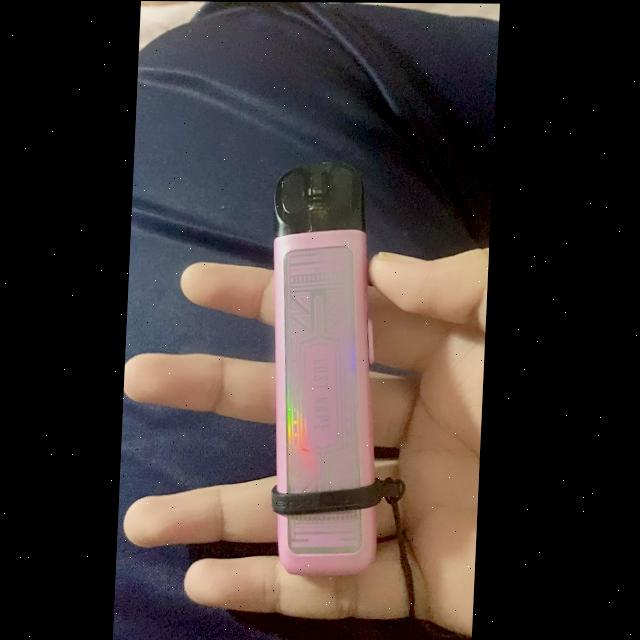vape: (262, 162, 395, 572)
